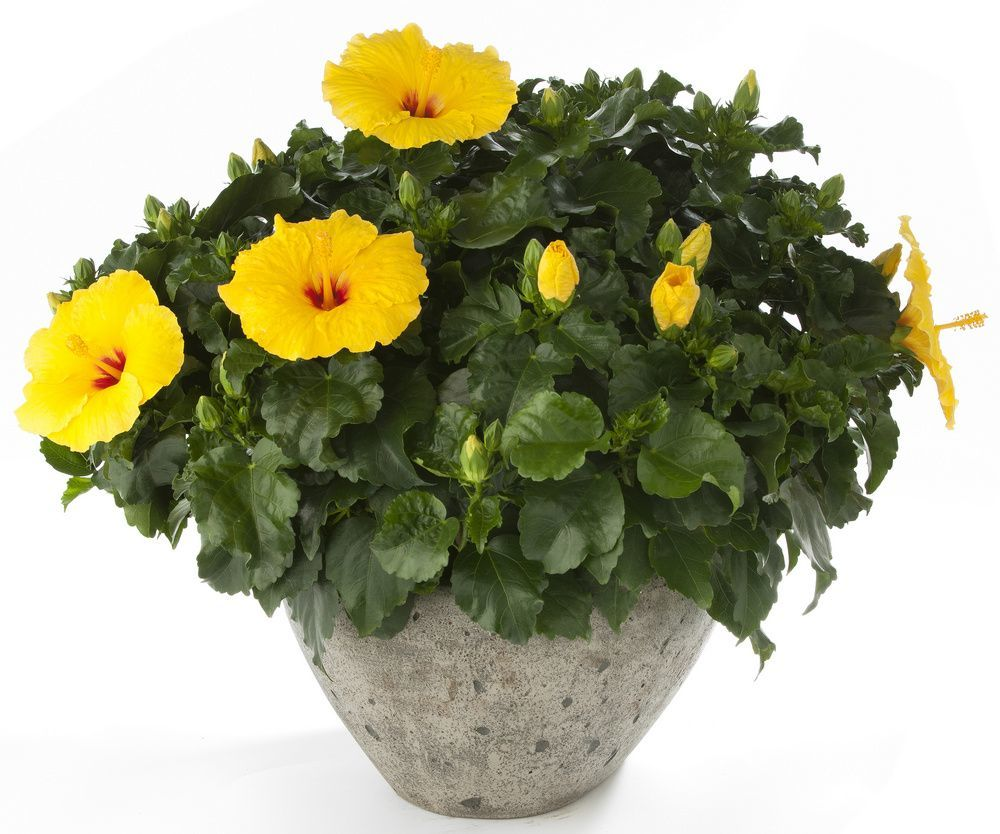Hibiscus-rosa-sinesis: (17, 269, 182, 453), (216, 216, 424, 356), (320, 22, 520, 146), (892, 214, 987, 430)
